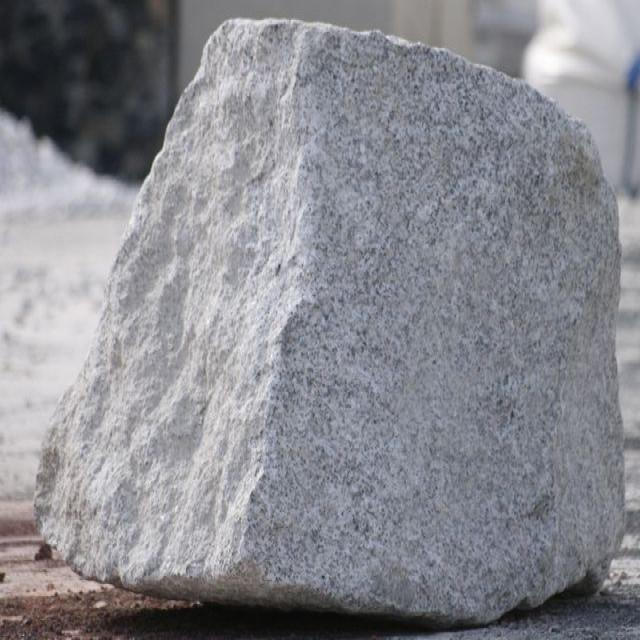Igneous: (34, 16, 624, 619)
